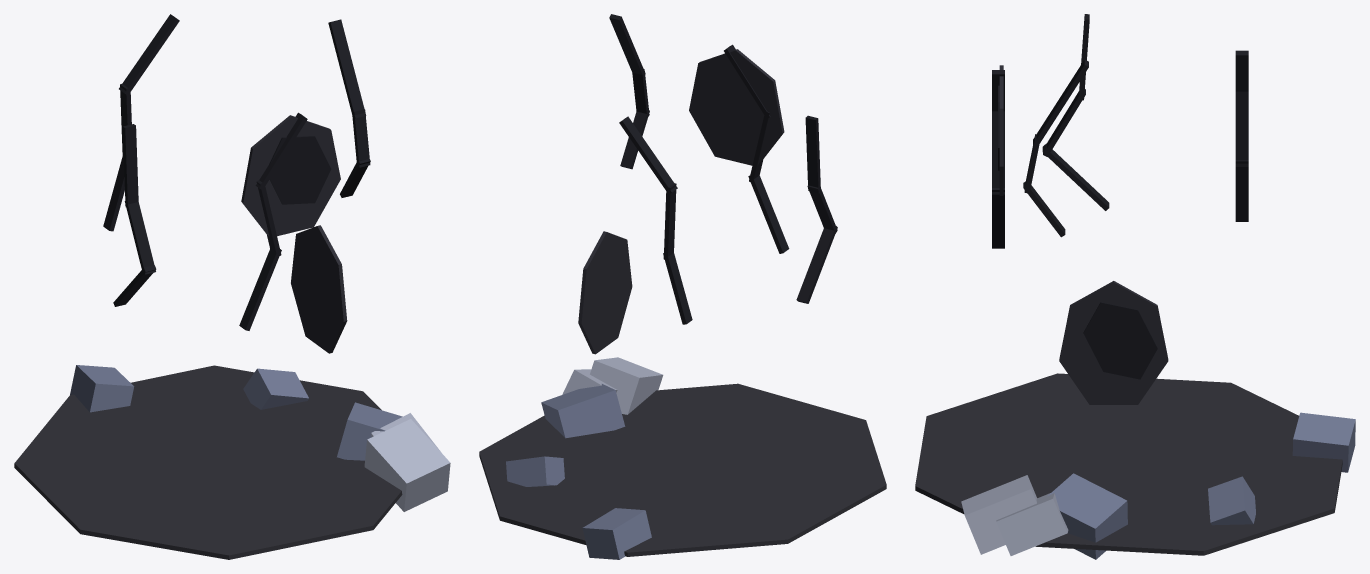
Rendered from wall_dmg_1_1.glb.
The picture shows the model from 3 angles, left to right: view 1: azimuth 30°, elevation 25°; view 2: azimuth 150°, elevation 25°; view 3: azimuth 270°, elevation 25°; orthographic projection. The views are drawn at different scales.
Parts seen in each view (by area): view 1: body; view 2: body; view 3: body.
Part boxes in pixels (<box>): body: <box>14,14,450,559</box>; body: <box>479,14,886,559</box>; body: <box>915,14,1355,559</box>.
Bounding box in the file's own units: 1.64 × 2.02 × 1.71.
